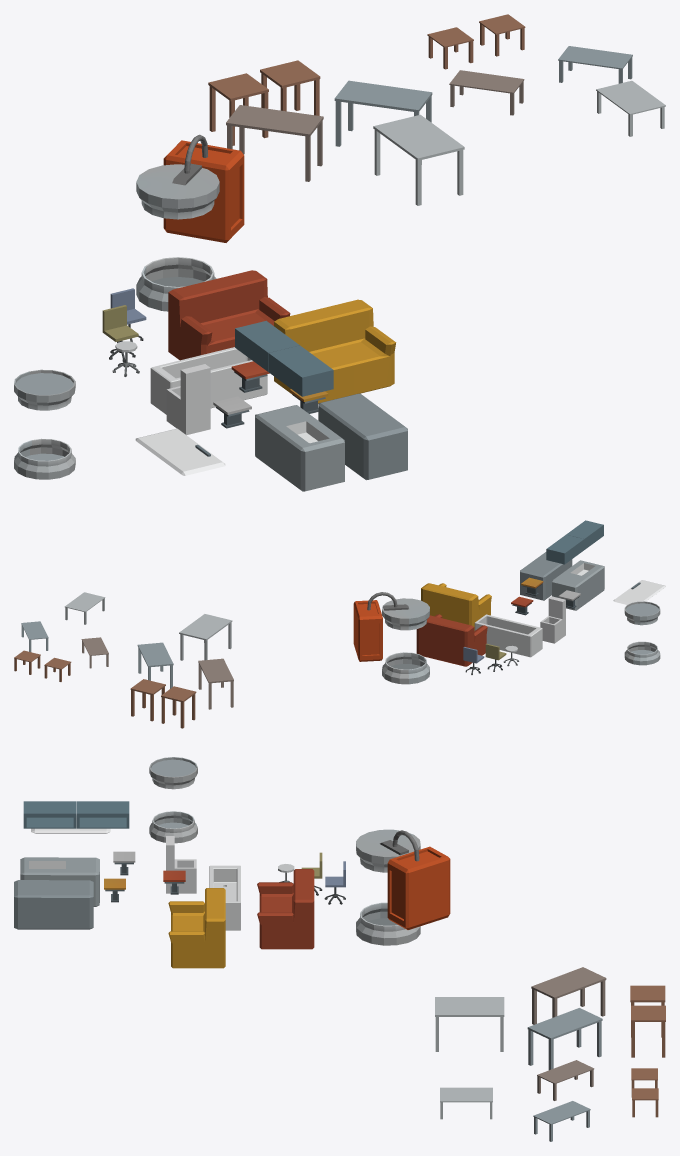
The model's file is different_2.0.fbx.
3 renders of one model, top to bottom at view 1: azimuth 30°, elevation 25°; view 2: azimuth 150°, elevation 25°; view 3: azimuth 270°, elevation 25°, orthographic. The views are drawn at different scales.
Visible parts, largest first — view 1: Column.030, sofa1.002, sofa1.001, washing.002, table.033, Column.003, Bath.002, table.007, table.005, table.016, toilet.002, shelf.012 (+13 smaller); view 2: Column.030, sofa1.001, sofa1.002, Bath.002, washing.002, Column.003, table.033, table.007, table.005, toilet.002, table.016, shelf.001 (+9 smaller); view 3: Column.030, sofa1.001, sofa1.002, table.033, Column.003, washing.002, table.016, table.005, table.007, shelf.001, shelf.012, Bath.002 (+6 smaller).
Part boxes in pixels (x1,y1,x2,y2): Column.030: [136, 134, 244, 311]; sofa1.002: [274, 299, 396, 403]; sofa1.001: [168, 270, 290, 360]; washing.002: [255, 405, 344, 491]; table.033: [318, 393, 407, 480]; Column.003: [14, 369, 75, 479]; Bath.002: [150, 347, 267, 414]; table.007: [373, 114, 464, 205]; table.005: [226, 105, 323, 181]; table.016: [334, 80, 432, 146]; toilet.002: [166, 364, 210, 435]; shelf.012: [268, 345, 333, 396]; Column.030: [353, 592, 429, 684]; sofa1.001: [416, 614, 487, 666]; sofa1.002: [421, 583, 491, 630]; Bath.002: [474, 614, 542, 657]; washing.002: [552, 560, 604, 610]; Column.003: [624, 601, 660, 665]; table.033: [520, 552, 572, 600]; table.007: [179, 614, 232, 660]; table.005: [198, 658, 233, 709]; toilet.002: [540, 596, 565, 643]; table.016: [137, 642, 173, 688]; shelf.001: [546, 534, 584, 564]; Column.030: [356, 829, 450, 945]; sofa1.001: [257, 869, 314, 949]; sofa1.002: [168, 888, 225, 968]; table.033: [14, 880, 93, 929]; Column.003: [149, 757, 197, 843]; washing.002: [20, 857, 99, 906]; table.016: [527, 1008, 602, 1070]; table.005: [531, 967, 606, 1024]; table.007: [435, 997, 504, 1051]; shelf.001: [76, 801, 129, 828]; shelf.012: [23, 801, 76, 828]; Bath.002: [209, 865, 240, 930].
Size of the model in its own units: 1950 by 344 by 1640.
